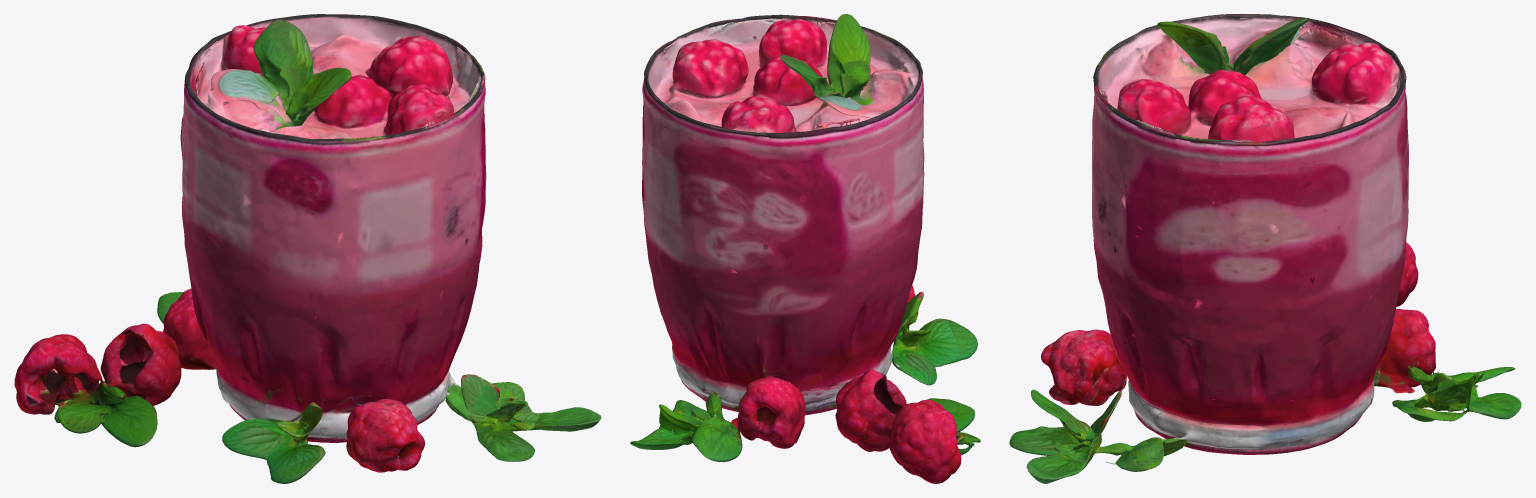
File: Raspberry _Smoothie.glb
3 views of the same model, side by side, from view 1: azimuth 30°, elevation 25°; view 2: azimuth 150°, elevation 25°; view 3: azimuth 270°, elevation 25° (orthographic). The views are drawn at different scales.
Bounding box in the file's own units: 1.95 × 1.66 × 2.
Materials: 1 (1 with a texture image).
